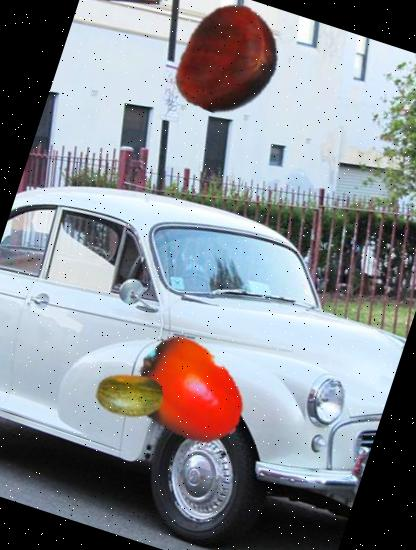Chestnut: (158, 0, 300, 130)
Kaki: (116, 322, 261, 467)
Melon: (86, 352, 172, 439)
